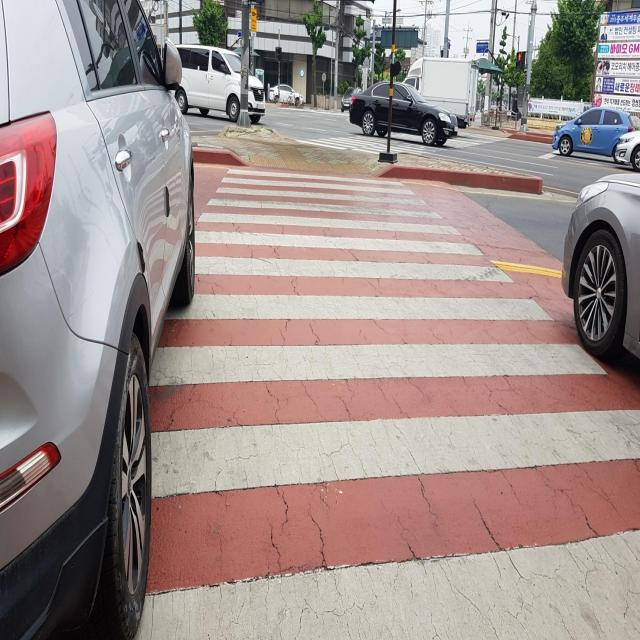횡단보도: (128, 159, 640, 640), (297, 130, 513, 160)
